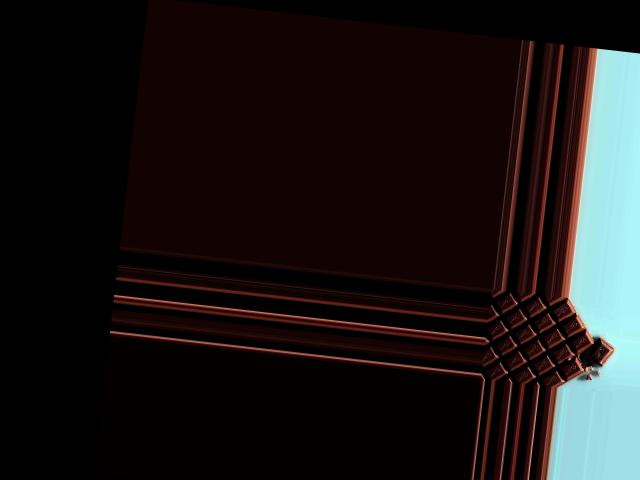chocolate: (480, 292, 606, 390)
